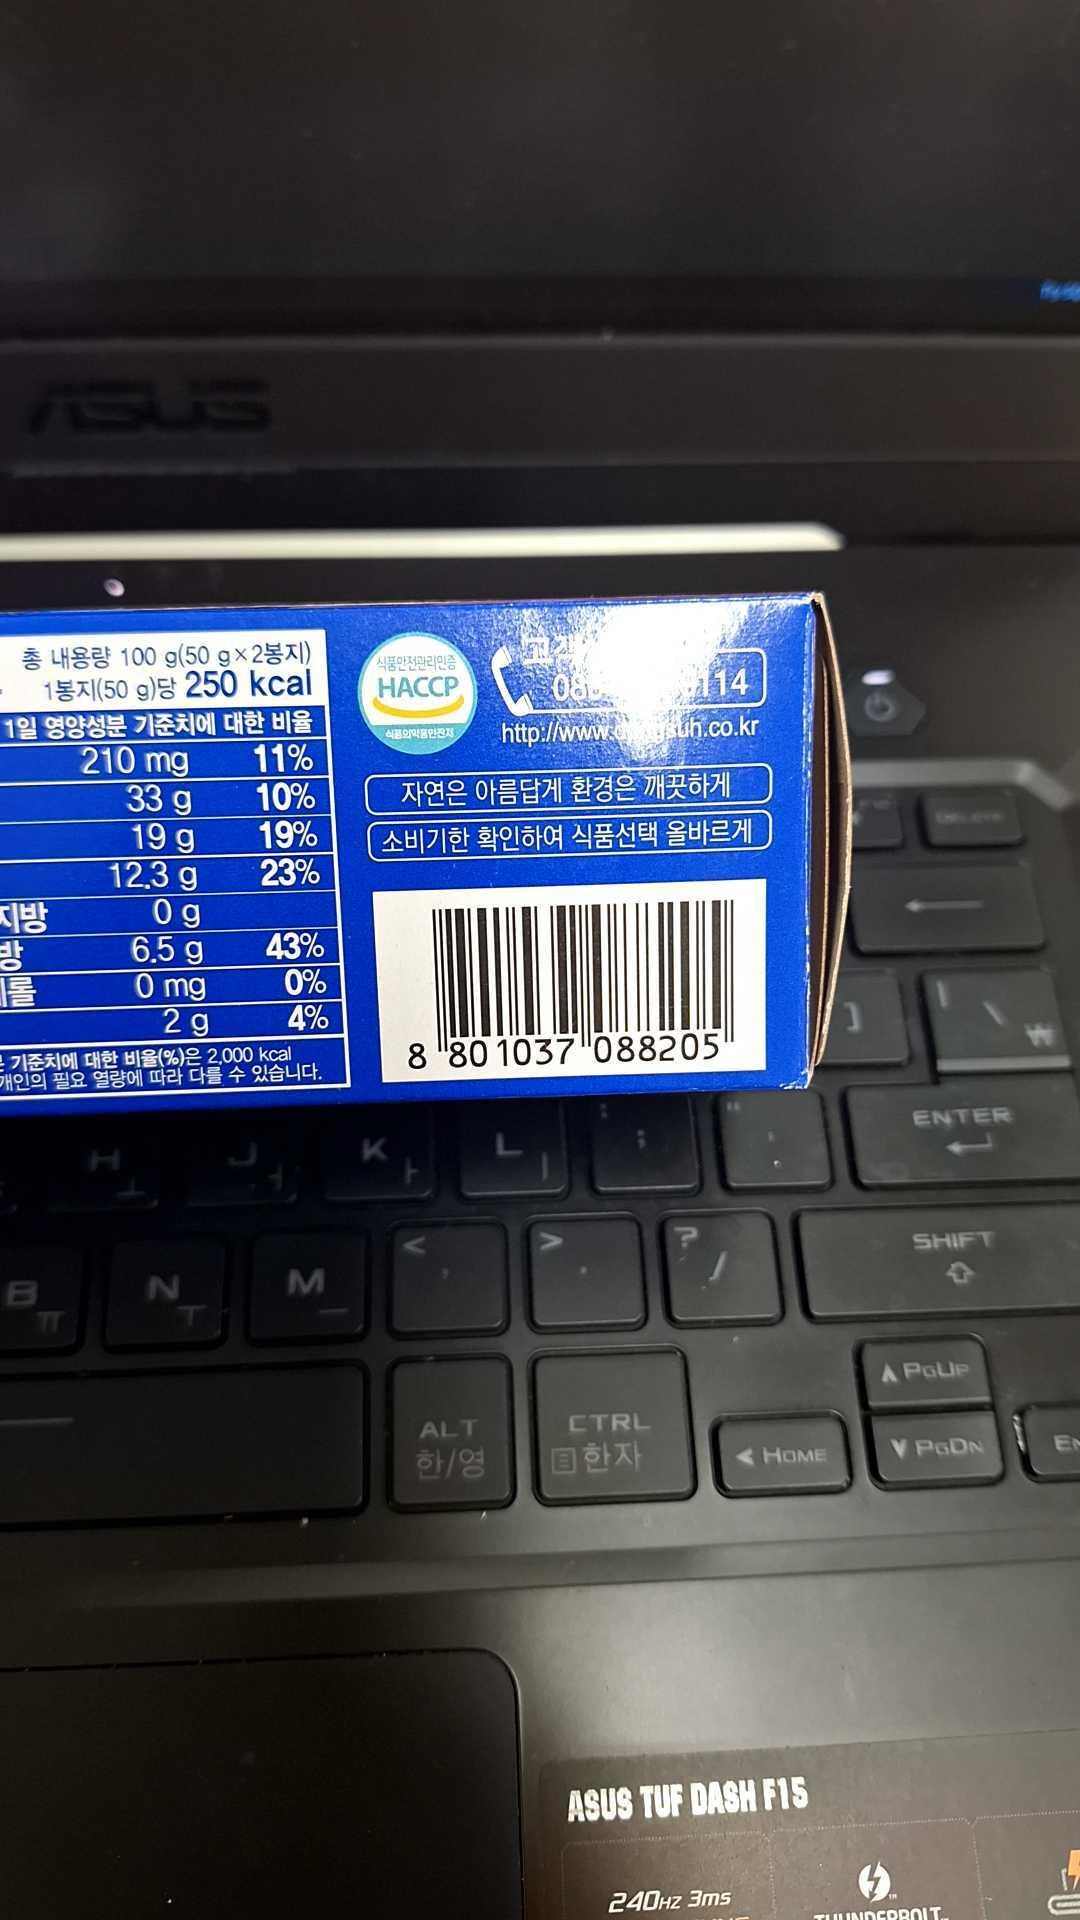kuandku-2000-2024-11-08: (388, 901, 757, 1069)
